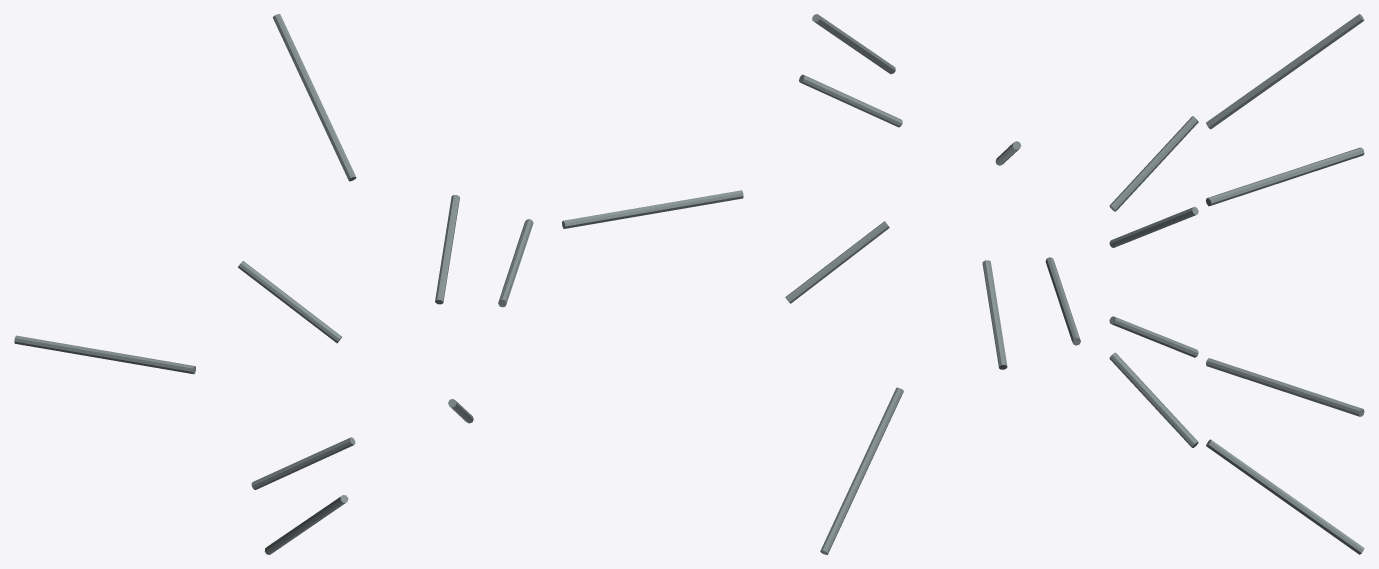
Rendered from peijian-geode.glb.
3 renders of one model, left to right at view 1: azimuth 30°, elevation 25°; view 2: azimuth 150°, elevation 25°; view 3: azimuth 270°, elevation 25°, orthographic.
Parts seen in each view (by area): view 1: Node; view 2: Node; view 3: Node.
Boxes of the visible parts, x1,y1,x2,y2 form: Node: (14,14,533,554); Node: (562,14,1080,554); Node: (1109,14,1364,554).
Bounding box in the file's own units: 1.02 × 1.01 × 0.4295.
Materials: 1 (1 with a texture image).
